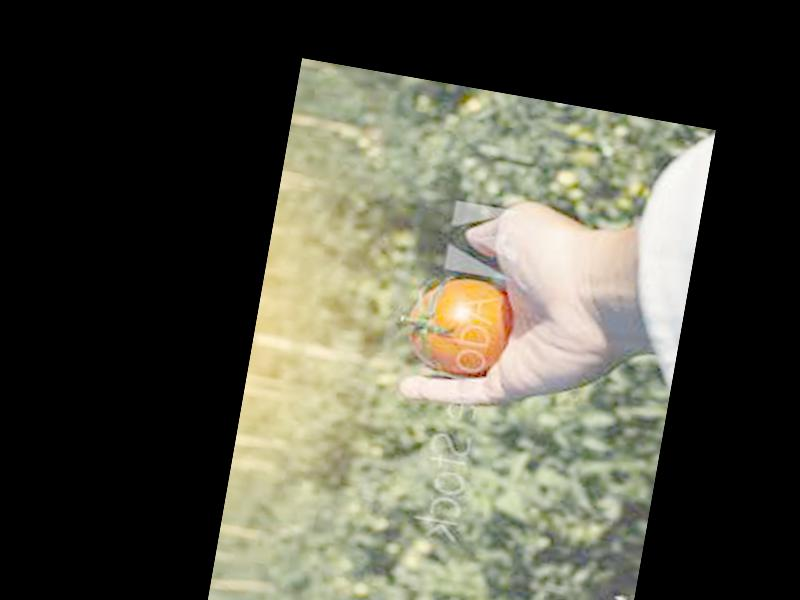Tomato: (402, 273, 513, 383)
